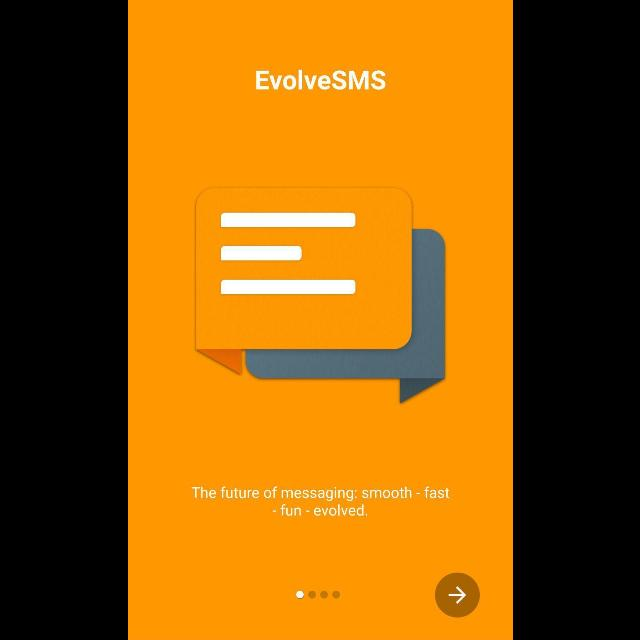button: (434, 572, 480, 618)
image: (196, 188, 444, 404)
pageindicator: (294, 590, 340, 600)
text: (191, 486, 449, 516), (255, 70, 385, 90)
